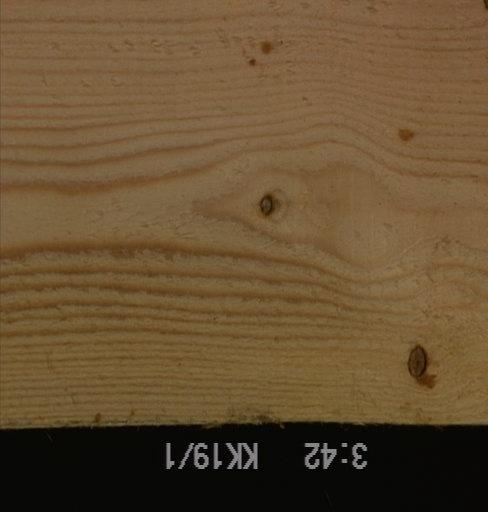dry_knot: (406, 344, 428, 378), (257, 193, 275, 217)
